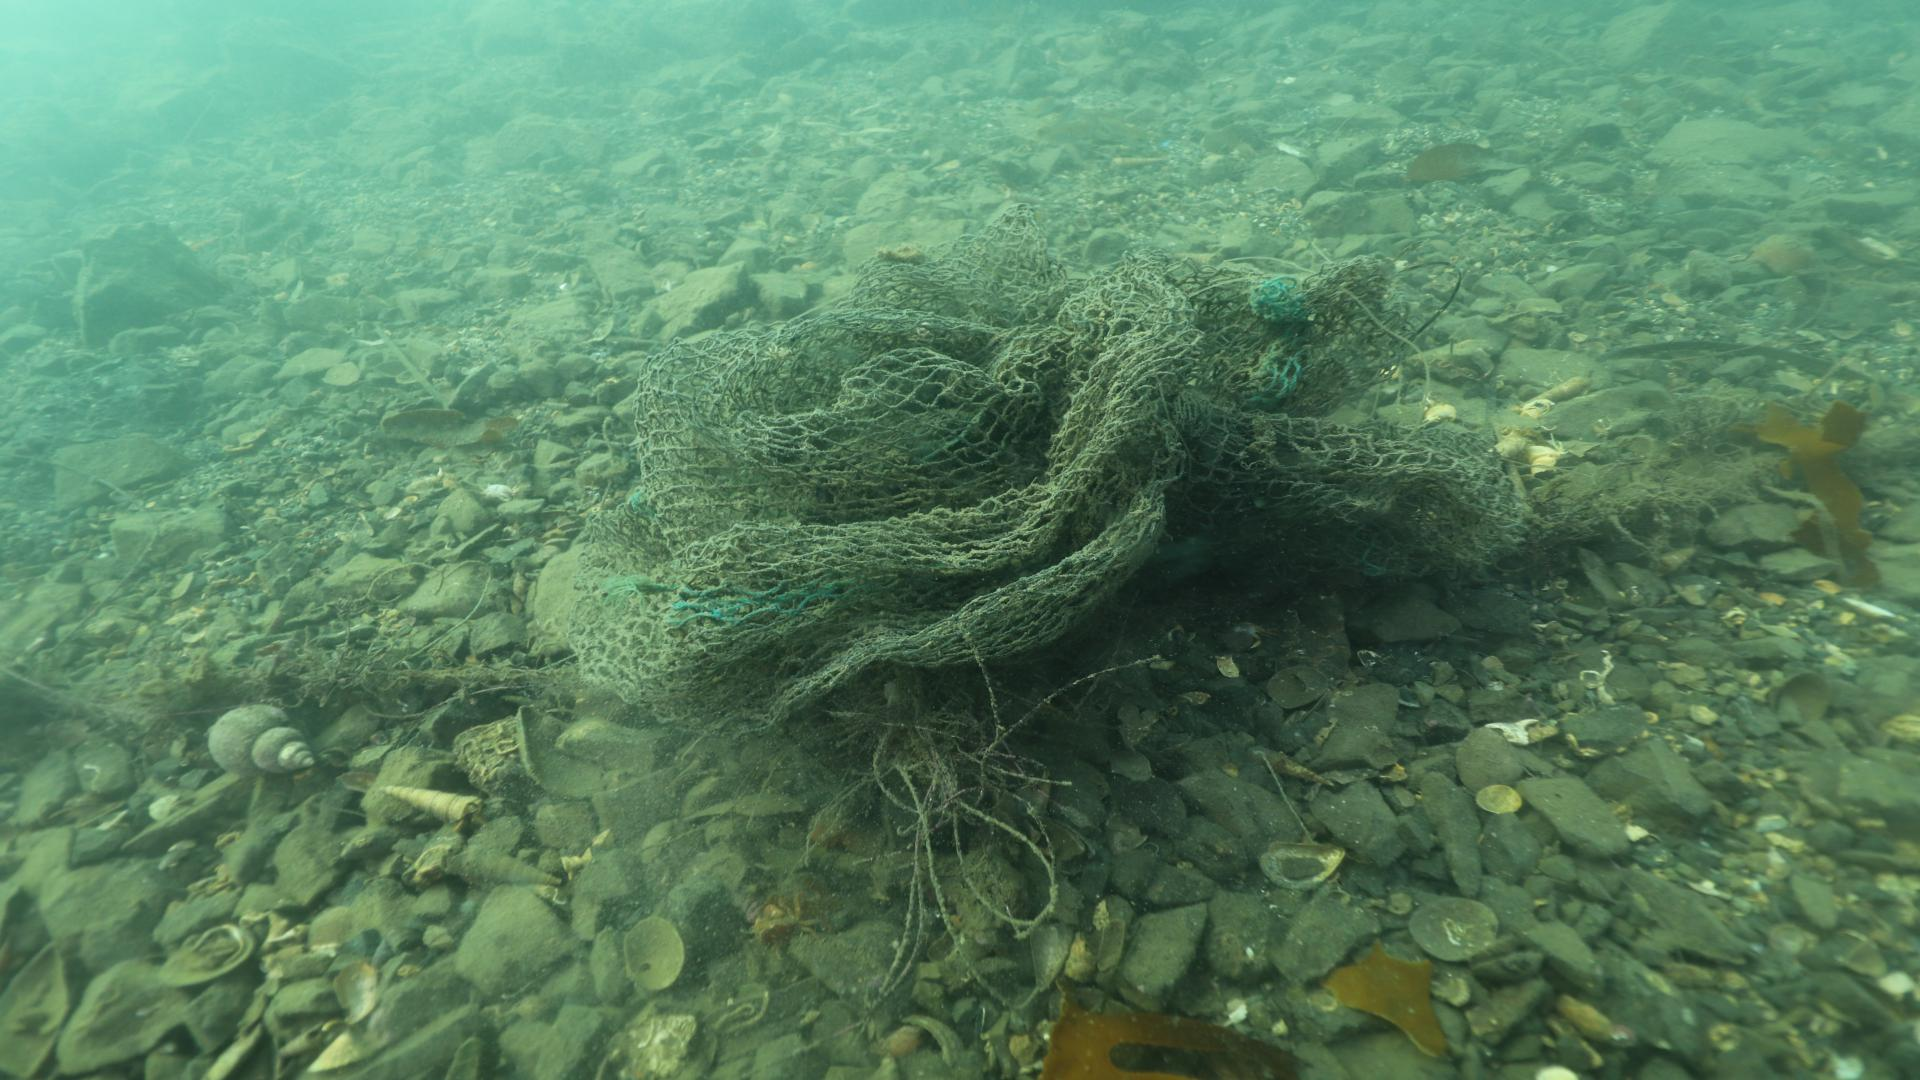fish net: (558, 199, 1515, 731)
